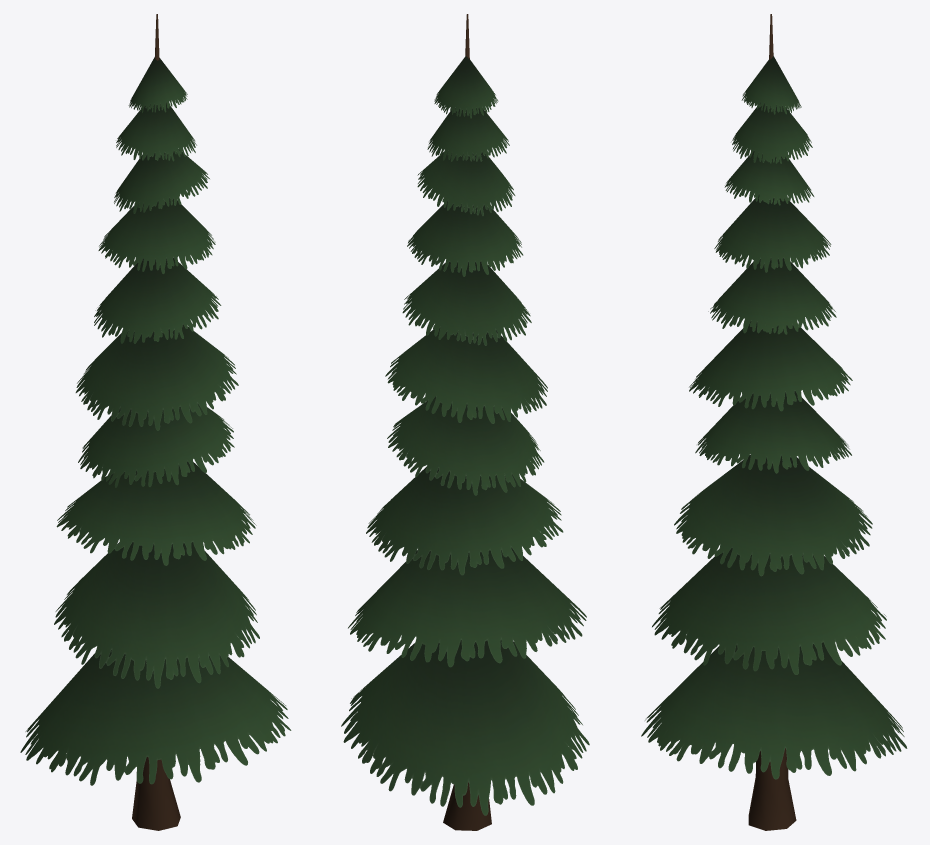
The model's file is SM_Tree.fbx.
3 renders of one model, left to right at view 1: azimuth 30°, elevation 25°; view 2: azimuth 150°, elevation 25°; view 3: azimuth 270°, elevation 25°, orthographic.
Parts seen in each view (by area): view 1: SM_Tree; view 2: SM_Tree; view 3: SM_Tree.
Part boxes in pixels (left/top/right/bottom): SM_Tree: left=20, top=14, right=291, bottom=830; SM_Tree: left=341, top=14, right=589, bottom=830; SM_Tree: left=641, top=14, right=907, bottom=830.
Bounding box in the file's own units: 190 × 618 × 200.
